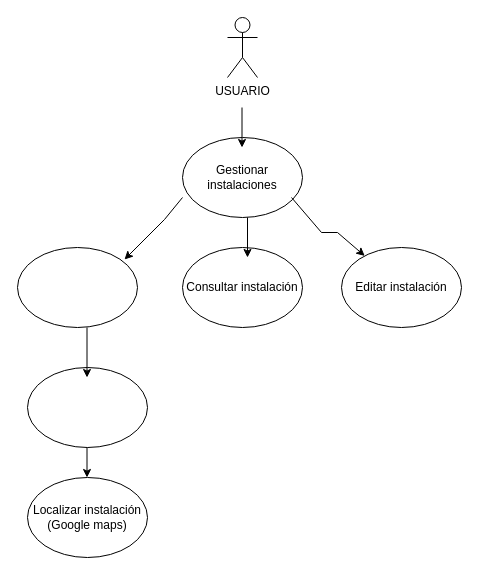
Some shapes in this 479 by 575 pixel diagram are drawn without their labels. The shapes that lost their labels are listed below. From the top down, each one's centre as x and y in pixels, then its label:
the point at 77,287: Crear instalación
the point at 87,407: Seguimiento instalación
